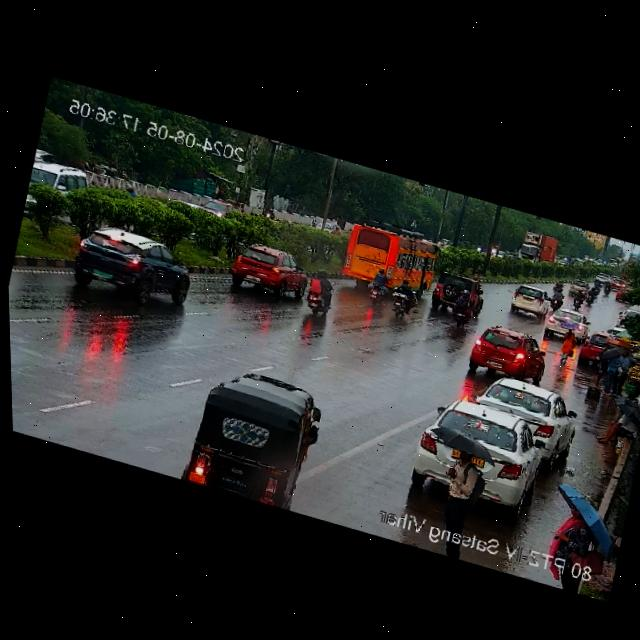bus: (328, 212, 446, 310)
car: (178, 354, 326, 515), (421, 393, 553, 510), (66, 216, 200, 316), (474, 369, 581, 453), (227, 235, 313, 306), (463, 320, 546, 390), (431, 268, 487, 324), (29, 149, 91, 197), (505, 282, 552, 320), (542, 304, 588, 341), (572, 327, 606, 373), (199, 195, 235, 221), (568, 277, 589, 294)
motorcycle: (303, 264, 338, 320), (386, 273, 419, 318), (450, 281, 475, 331), (365, 264, 393, 306), (598, 275, 618, 300), (548, 285, 565, 311), (571, 288, 587, 310), (585, 282, 601, 304), (554, 277, 565, 288)
person: (433, 429, 493, 531), (553, 490, 597, 549), (596, 404, 638, 450), (612, 343, 637, 397), (590, 340, 613, 393), (599, 346, 621, 394), (558, 325, 577, 364)
truck: (513, 228, 560, 268)
